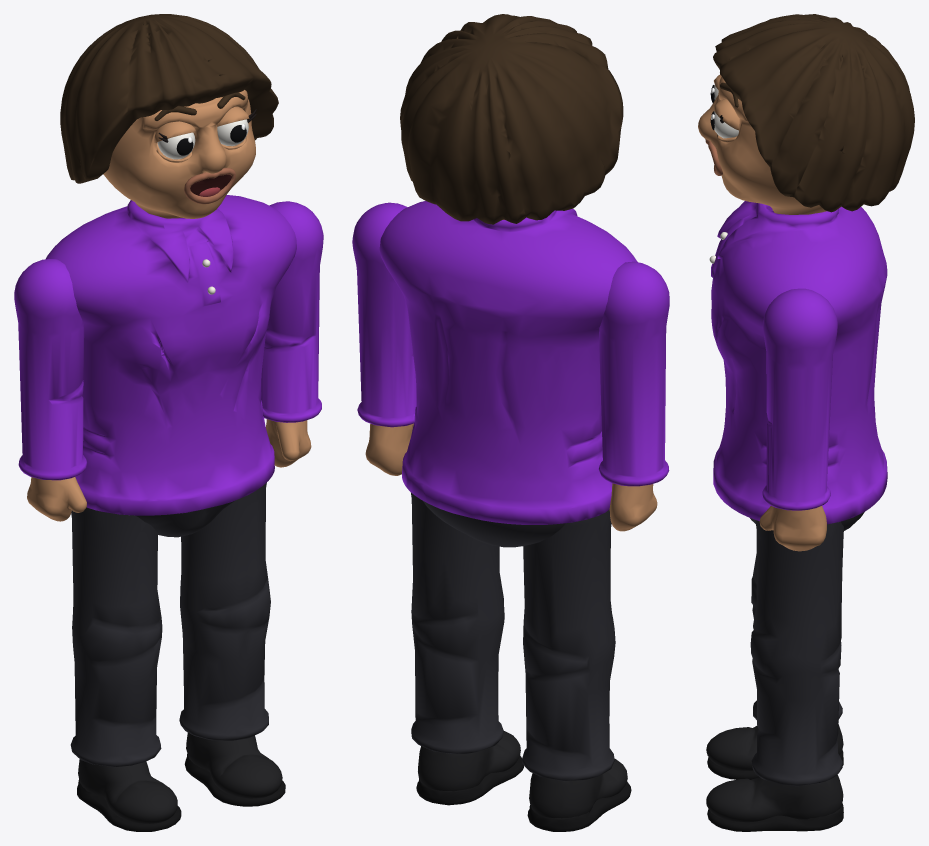
File: liner_3.glb
The picture shows the model from 3 angles, left to right: view 1: azimuth 30°, elevation 25°; view 2: azimuth 150°, elevation 25°; view 3: azimuth 270°, elevation 25°; orthographic projection. The views are drawn at different scales.
Parts seen in each view (by area): view 1: Body_Mesh, Head_Mesh, LegR_Mesh, LegL_Mesh, ArmR_Mesh, ArmL_Mesh, Mouth; view 2: Body_Mesh, Head_Mesh, LegR_Mesh, LegL_Mesh, ArmR_Mesh, ArmL_Mesh; view 3: Body_Mesh, Head_Mesh, LegL_Mesh, ArmL_Mesh, LegR_Mesh.
Boxes of the visible parts, x1,y1,x2,y2 form: Body_Mesh: [46, 195, 296, 537]; Head_Mesh: [60, 14, 278, 218]; LegR_Mesh: [70, 507, 181, 831]; LegL_Mesh: [179, 482, 285, 806]; ArmR_Mesh: [14, 259, 87, 521]; ArmL_Mesh: [261, 201, 323, 467]; Mouth: [184, 168, 235, 204]; Body_Mesh: [379, 201, 637, 547]; Head_Mesh: [400, 14, 623, 224]; LegR_Mesh: [522, 509, 631, 831]; LegL_Mesh: [411, 493, 523, 805]; ArmR_Mesh: [598, 261, 669, 531]; ArmL_Mesh: [352, 202, 416, 475]; Body_Mesh: [709, 201, 887, 530]; Head_Mesh: [698, 14, 914, 214]; LegL_Mesh: [706, 520, 843, 831]; ArmL_Mesh: [759, 288, 837, 551]; LegR_Mesh: [706, 532, 843, 779].
Bounding box in the file's own units: 0.7521 × 1.82 × 0.4667.
